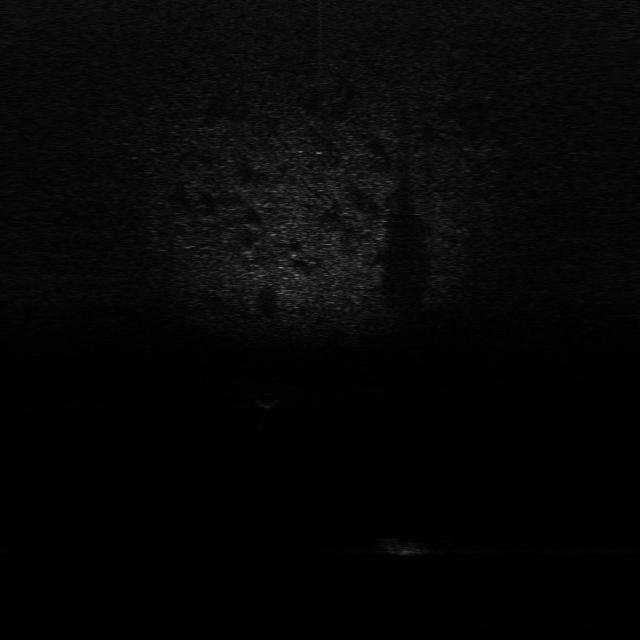ball: (250, 391, 284, 409)
metal bucket: (370, 534, 434, 558)
